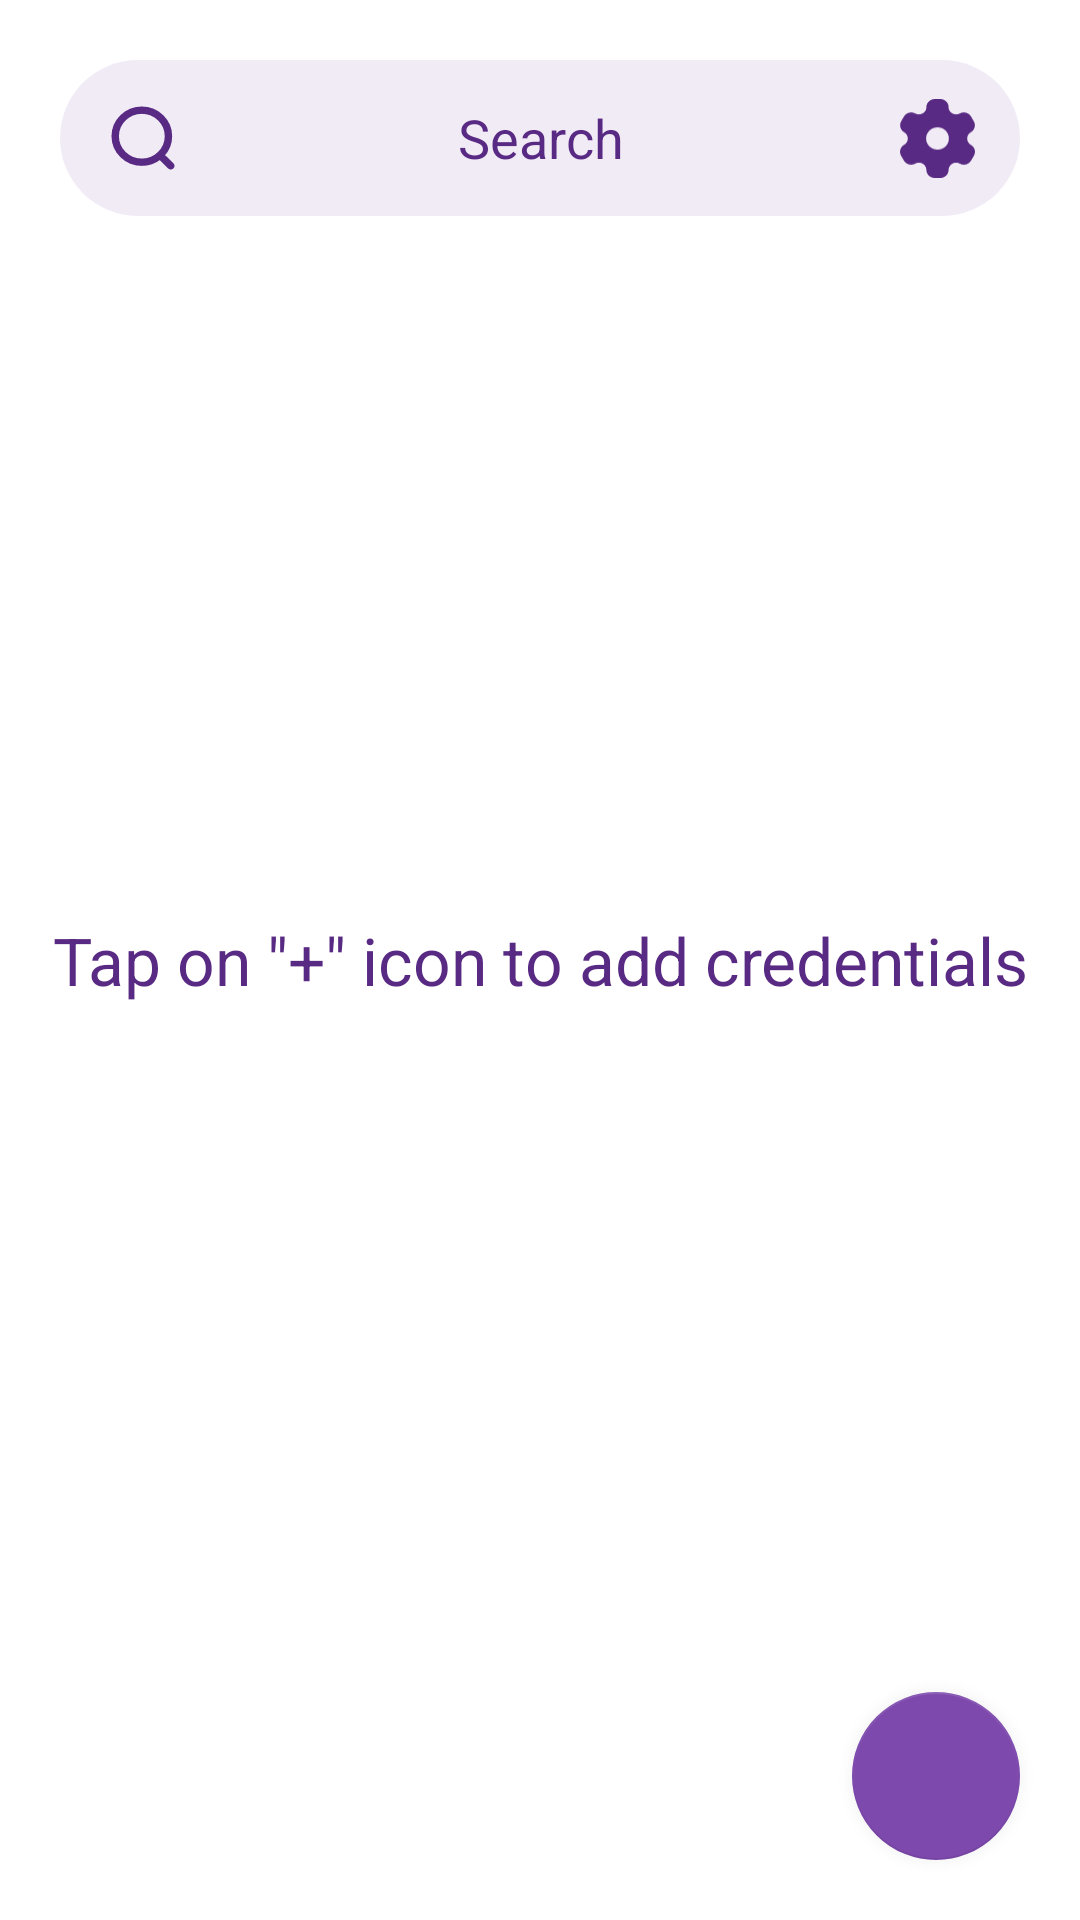

Icons on this 1080*1920 Android screen, each with the point to tap as (x,y):
setting: (937,138)
